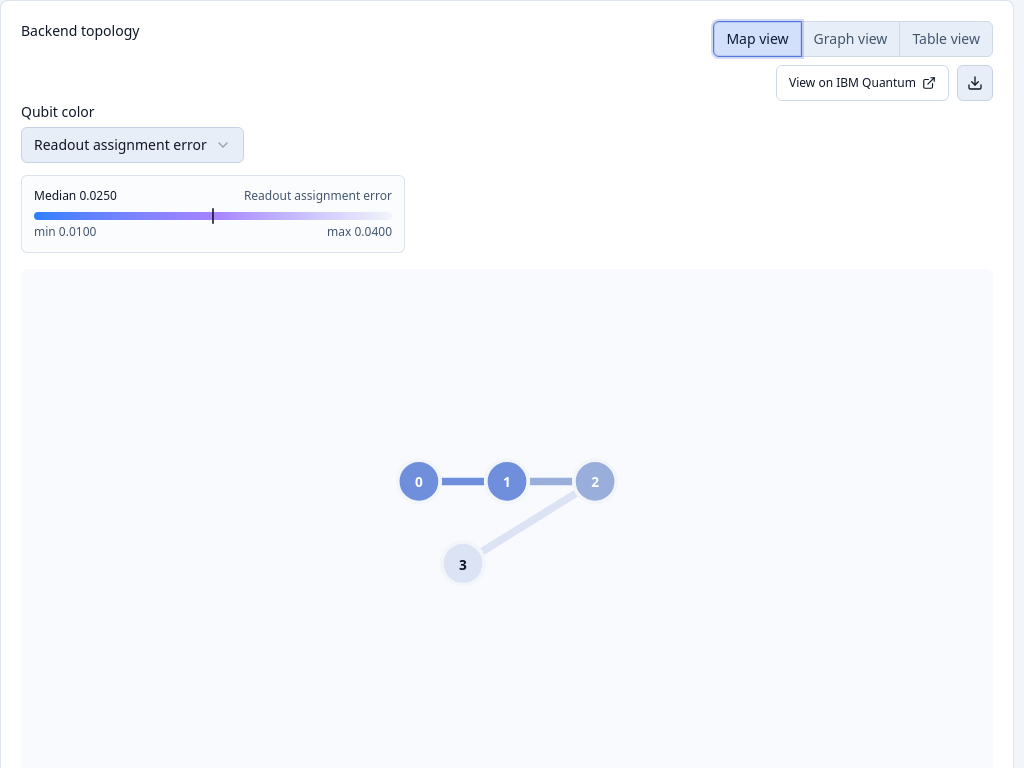
Test: BackendTopologyPanel › keeps the selected map metric when switching to graph view and uses it for bar heights
Click the dropdown labelled "Readout assignment error". click: [132, 145]
box: [21,127,244,163]
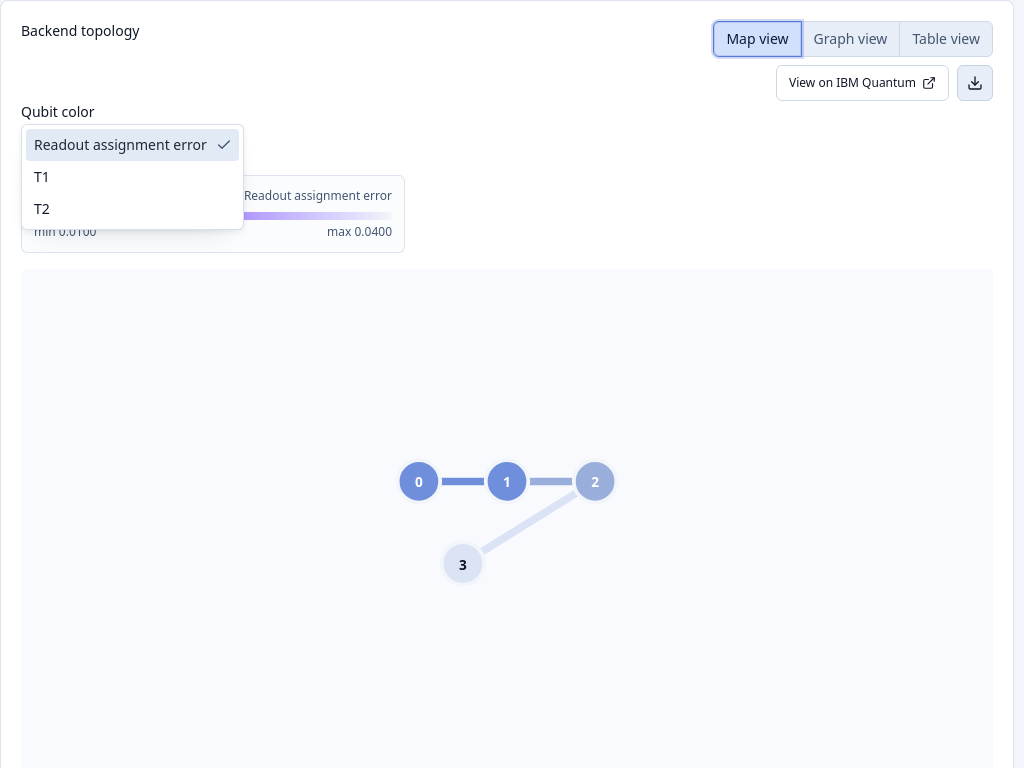
Click the option "T1". click: [42, 176]
box: [34,167,50,186]
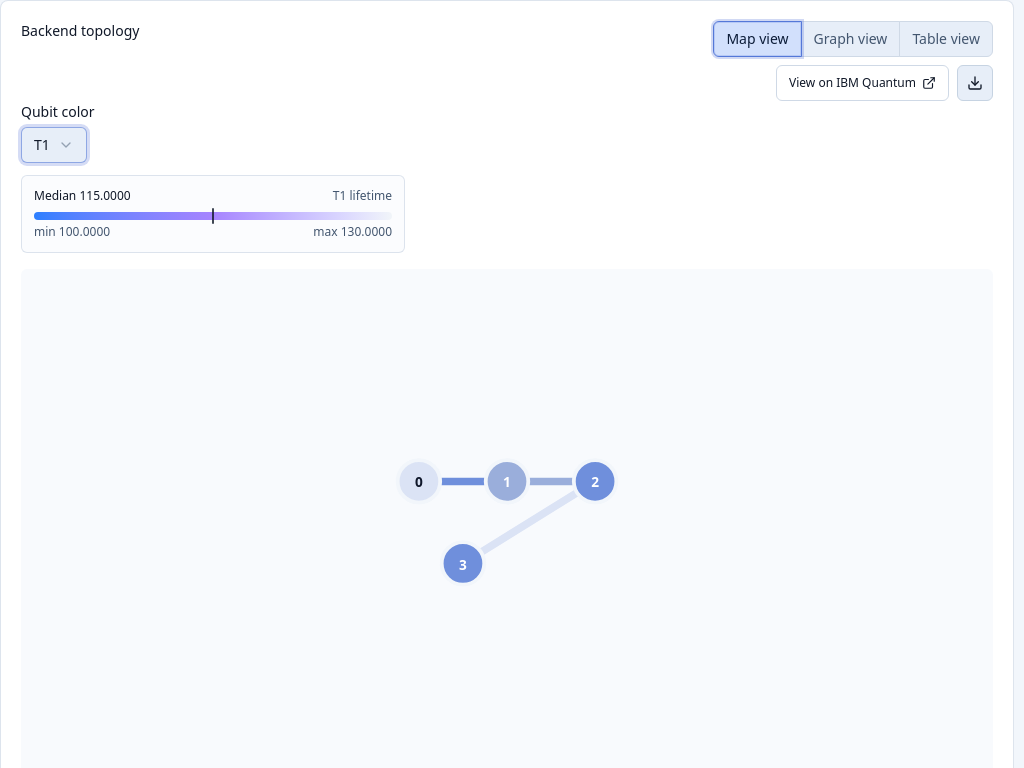
Click the tab "Graph view". click: [850, 39]
box: [801,21,900,57]
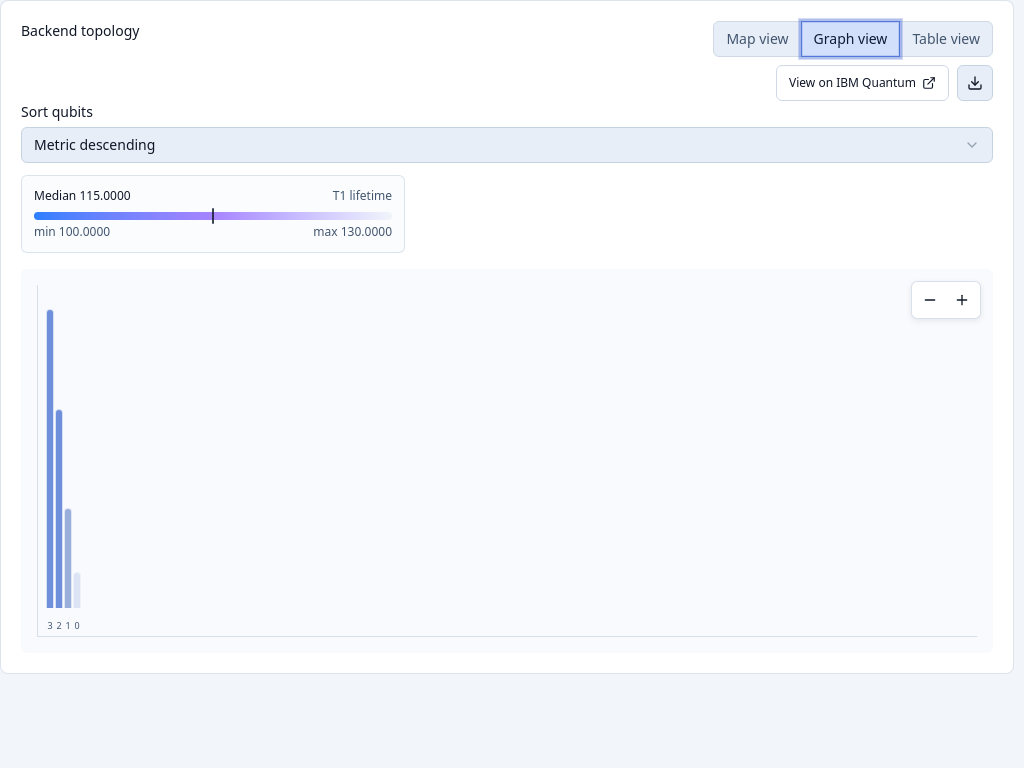
Result: the text "T1 lifetime" is shown at [333,188,392,204]
Result: the dropdown labelled "Metric descending" is shown at [21,127,993,163]
